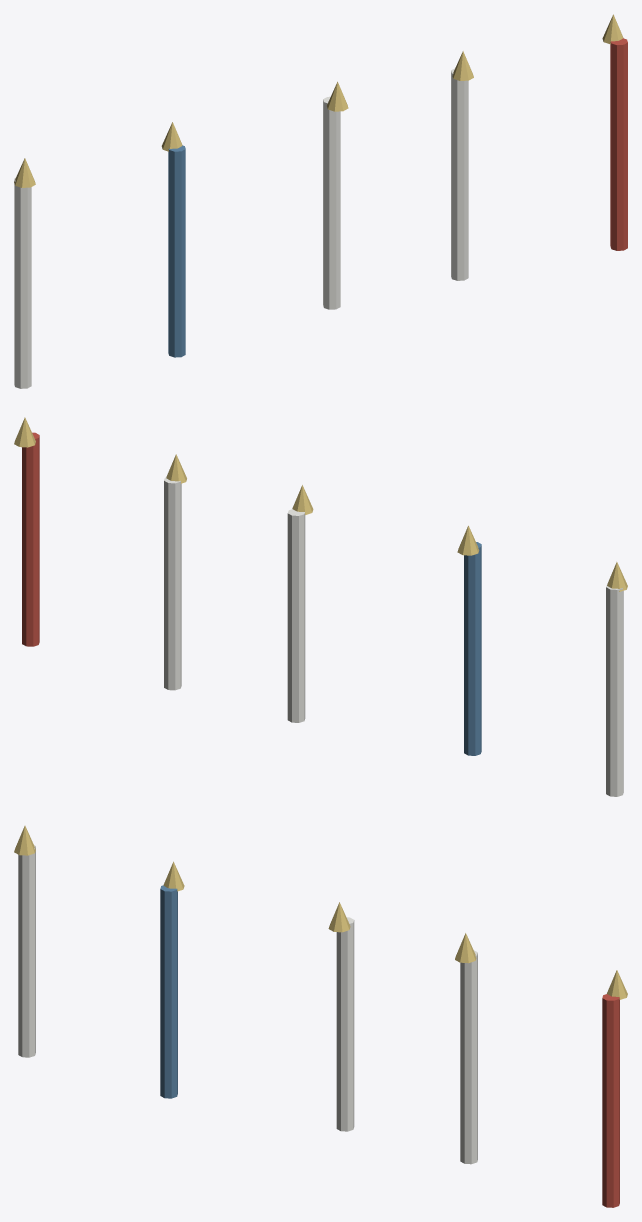
The model's file is MooringPoles.glb.
The picture shows the model from 3 angles, top to bottom: view 1: azimuth 30°, elevation 25°; view 2: azimuth 150°, elevation 25°; view 3: azimuth 330°, elevation 25°; orthographic projection.
Parts seen in each view (by area): view 1: Pole.004, Pole.001, Pole.002, Pole.003, Pole; view 2: Pole.002, Pole.003, Pole, Pole.004, Pole.001; view 3: Pole.002, Pole.004, Pole.001, Pole, Pole.003.
Part boxes in pixels (bbox=[...]): Pole.004: bbox=[610, 38, 627, 250]; Pole.001: bbox=[168, 145, 185, 357]; Pole.002: bbox=[323, 96, 340, 309]; Pole.003: bbox=[451, 68, 468, 280]; Pole: bbox=[14, 177, 31, 388]; Pole.002: bbox=[287, 509, 305, 722]; Pole.003: bbox=[164, 477, 181, 690]; Pole: bbox=[606, 584, 623, 796]; Pole.004: bbox=[22, 432, 39, 646]; Pole.001: bbox=[464, 542, 481, 755]; Pole.002: bbox=[336, 917, 354, 1131]; Pole.004: bbox=[602, 994, 619, 1207]; Pole.001: bbox=[160, 885, 177, 1098]; Pole: bbox=[18, 845, 35, 1057]; Pole.003: bbox=[460, 950, 477, 1164].
Bounding box in the file's own units: 12.37 × 4.45 × 0.7291.
